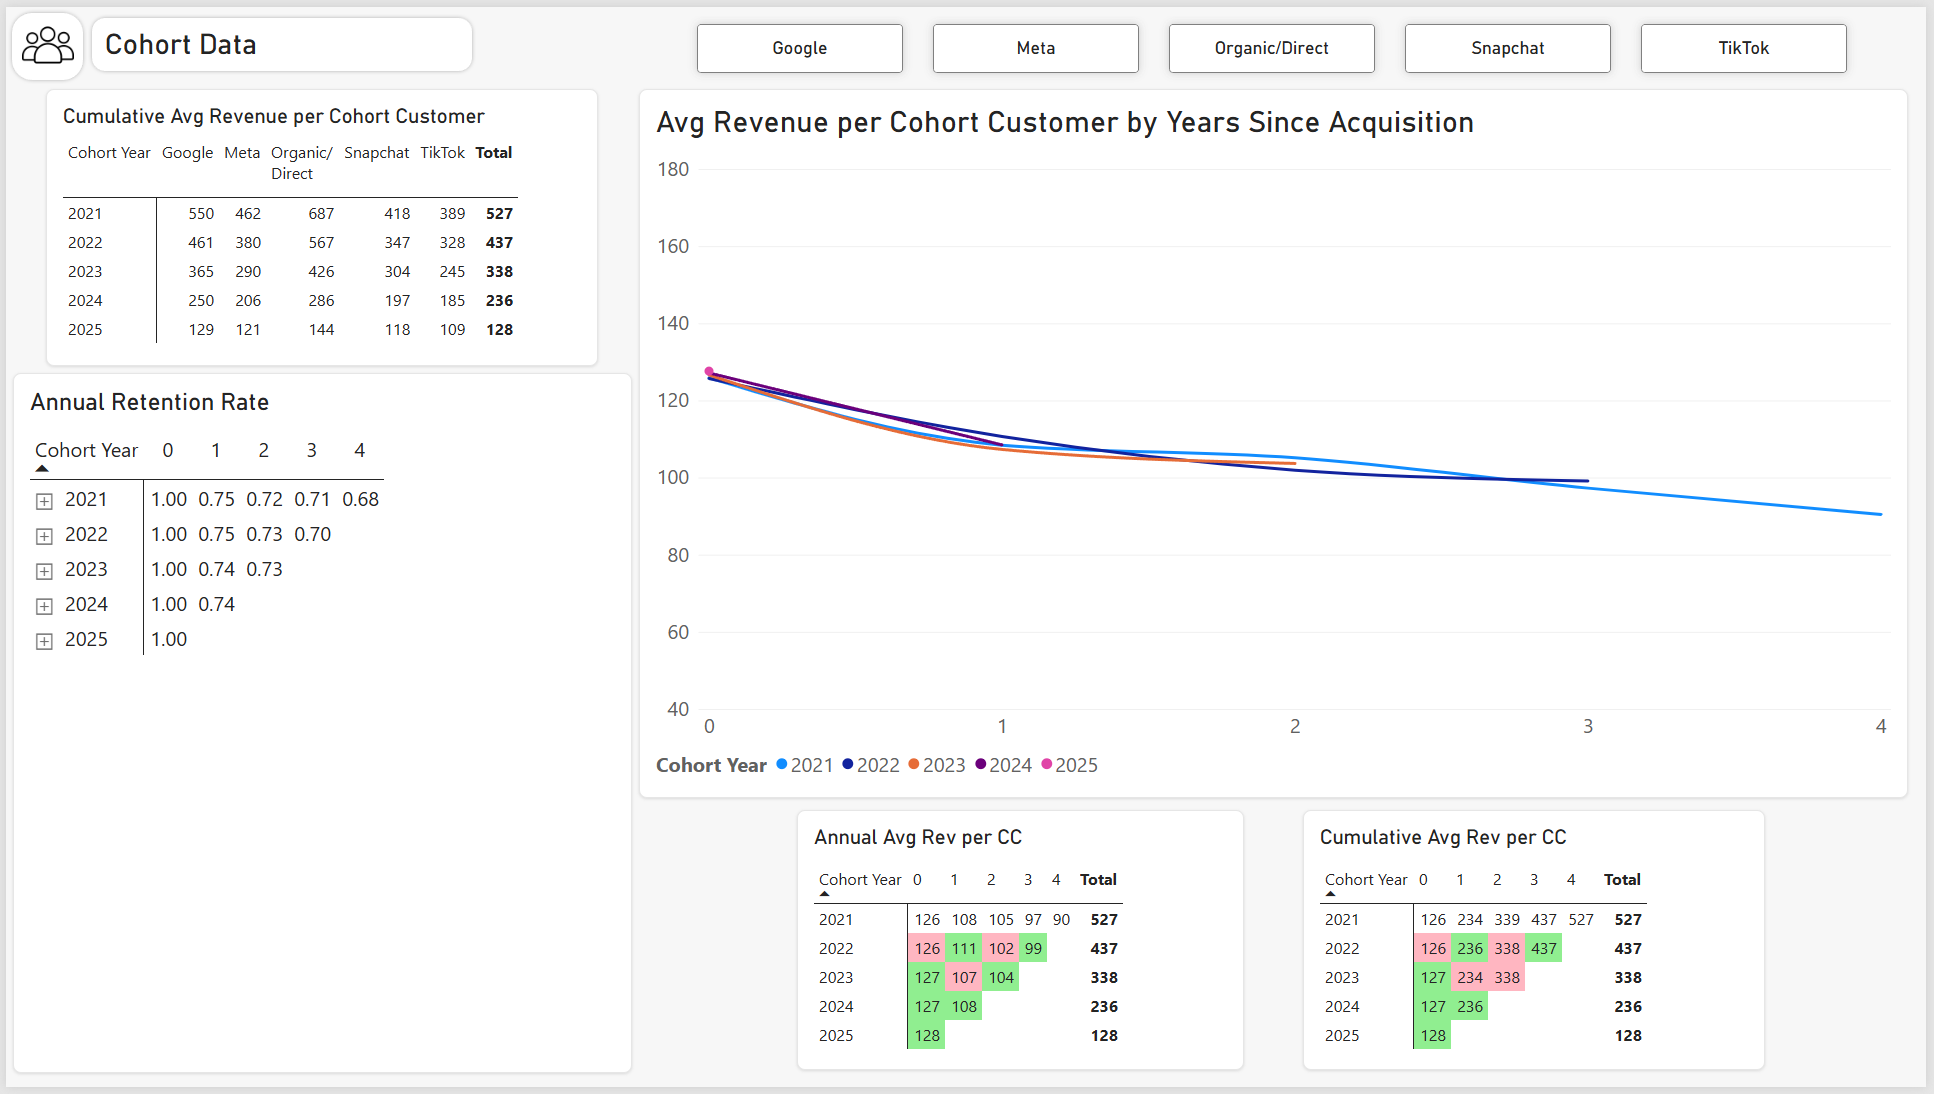

The page's visual inventory and layout, read from the dashboard file:
{"tool":"powerbi","page":{"name":"Cohort Data","canvas":[1920,1080],"ordinal":7},"visuals":[{"type":"shape","box":[2,2,79.2,74.6],"z":0},{"type":"shape","box":[82,7,388.3,61.3],"z":1000},{"type":"pivotTable","title":"Annual Retention Rate","fields":{"Rows":["dtc vw_cohort_activity_annual.cohort_year","dtc vw_cohort_activity_annual.acquisition_channel"],"Columns":["dtc vw_cohort_activity_annual.years_since_acquisition"],"Values":["dtc vw_cohort_activity_annual.Blended Retention Rate Annual"]},"box":[6.9,365.6,618.6,700.6],"z":2000},{"type":"advancedSlicerVisual","fields":{"Values":["dtc vw_cohort_activity_annual.acquisition_channel"]},"box":[679.9,5.9,1175.6,71.1],"z":3000},{"type":"lineChart","title":"Avg Revenue per Cohort Customer by Years Since Acquisition","fields":{"Series":["dtc vw_cohort_activity_annual.cohort_year"],"Category":["dtc vw_cohort_activity_annual.years_since_acquisition"],"Y":["dtc vw_cohort_activity_annual.Cumulative Avg Revenue per Cohort Customer"]},"box":[633.3,82.2,1268.9,708.9],"z":4000},{"type":"textbox","box":[99,20,350,39.6],"z":5000},{"type":"pivotTable","title":"Cumulative Avg Revenue per Cohort Customer ","fields":{"Values":["dtc vw_cohort_activity_annual.Cumulative Avg Revenue per Cohort Customer"],"Columns":["dtc vw_cohort_activity_annual.acquisition_channel"],"Rows":["dtc vw_cohort_activity_annual.cohort_year"]},"box":[39.5,82,552.4,276.7],"z":6000},{"type":"pivotTable","title":"Cumulative Avg Rev per CC","fields":{"Values":["dtc vw_cohort_activity_annual.Cumulative Avg Revenue per Cohort Customer (by Tenure)"],"Columns":["dtc vw_cohort_activity_annual.years_since_acquisition"],"Rows":["dtc vw_cohort_activity_annual.cohort_year"]},"box":[1296.7,803.3,462.2,260],"z":7000},{"type":"pivotTable","title":"Annual Avg Rev per CC","fields":{"Columns":["dtc vw_cohort_activity_annual.years_since_acquisition"],"Rows":["dtc vw_cohort_activity_annual.cohort_year"],"Values":["dtc vw_cohort_activity_annual.Cumulative Avg Revenue per Cohort Customer"]},"box":[791.1,803.3,446.7,260],"z":8000},{"type":"image","box":[8.9,11.9,66.2,52.4],"z":9000}]}

Visuals, with their boxes in screenshot pixels (x1, y1, x2, y2), scaled from the page's 1920x1080 canvas onto the 1934x1094 screenshot:
shape: [x1=2, y1=2, x2=82, y2=78]
shape: [x1=83, y1=7, x2=474, y2=69]
"Annual Retention Rate" pivotTable: [x1=7, y1=370, x2=630, y2=1080]
advancedSlicerVisual - dtc vw_cohort_activity_annual.acquisition_channel: [x1=685, y1=6, x2=1869, y2=78]
"Avg Revenue per Cohort Customer by Years Since Acquisition" lineChart: [x1=638, y1=83, x2=1916, y2=801]
textbox: [x1=100, y1=20, x2=452, y2=60]
"Cumulative Avg Revenue per Cohort Customer " pivotTable: [x1=40, y1=83, x2=596, y2=363]
"Cumulative Avg Rev per CC" pivotTable: [x1=1306, y1=814, x2=1772, y2=1077]
"Annual Avg Rev per CC" pivotTable: [x1=797, y1=814, x2=1247, y2=1077]
image: [x1=9, y1=12, x2=76, y2=65]
